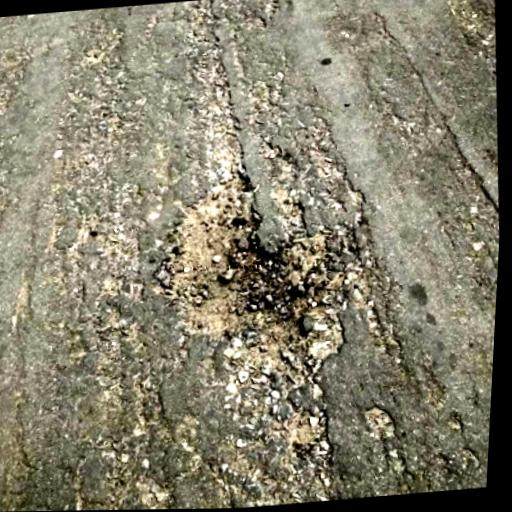pothole: (136, 162, 350, 394)
